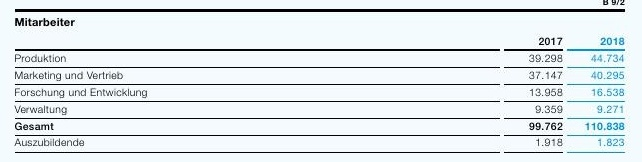table: (0, 0, 642, 162)
